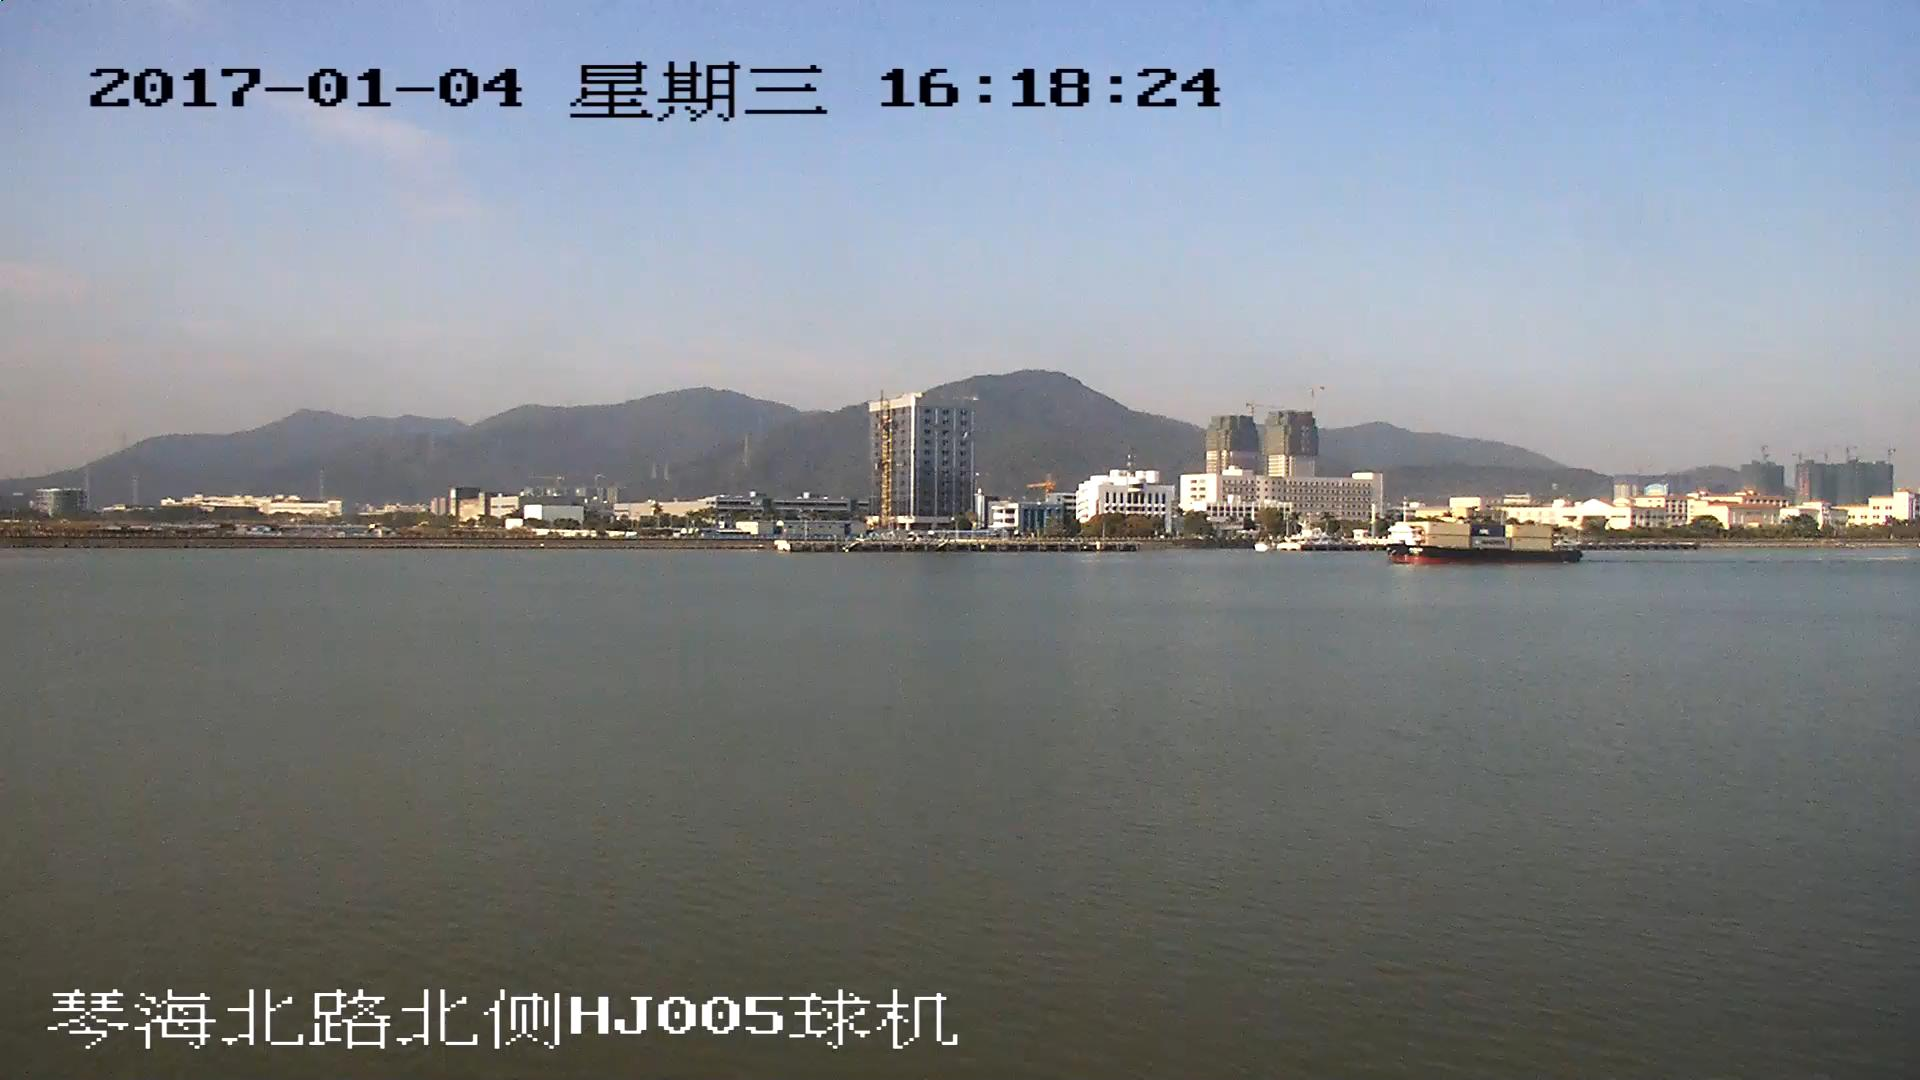container ship: (1386, 517, 1582, 568)
